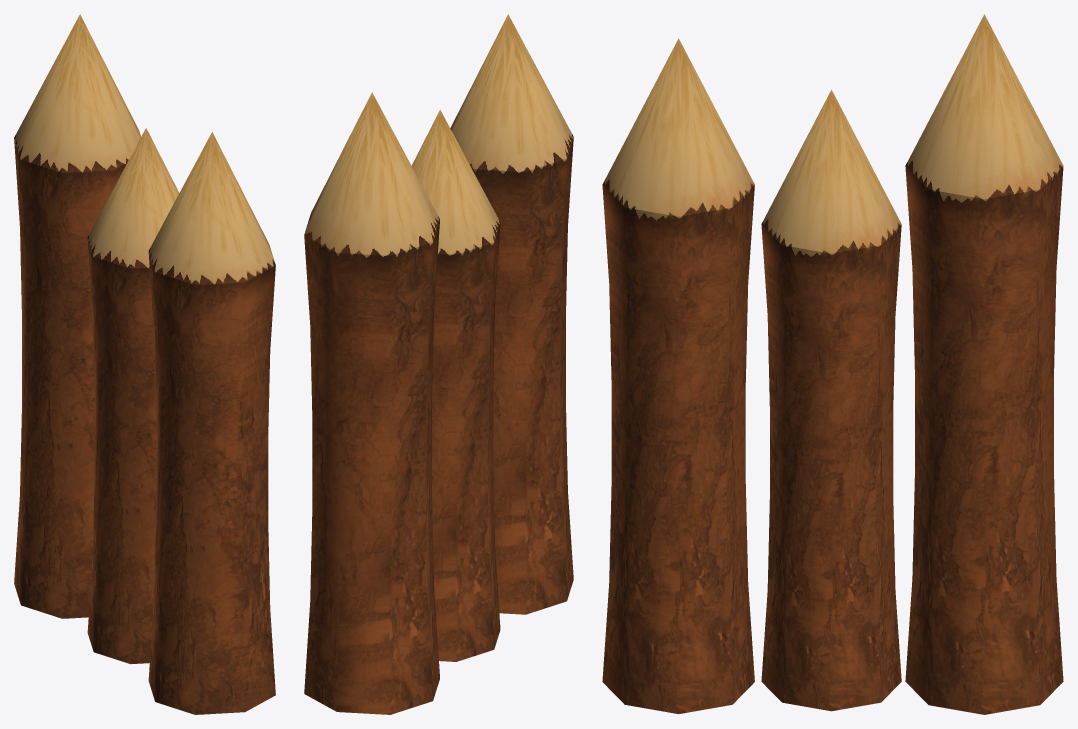
Rendered from Fence_End.FBX.
3 renders of one model, left to right at view 1: azimuth 30°, elevation 25°; view 2: azimuth 150°, elevation 25°; view 3: azimuth 270°, elevation 25°, orthographic. The views are drawn at different scales.
Visible parts, largest first — view 1: Fence_End; view 2: Fence_End; view 3: Fence_End.
Boxes of the visible parts, <box> form: Fence_End: <box>14,14,275,714</box>; Fence_End: <box>304,14,573,714</box>; Fence_End: <box>602,14,1063,714</box>.
Size of the model in its own units: 103 by 482 by 302.
